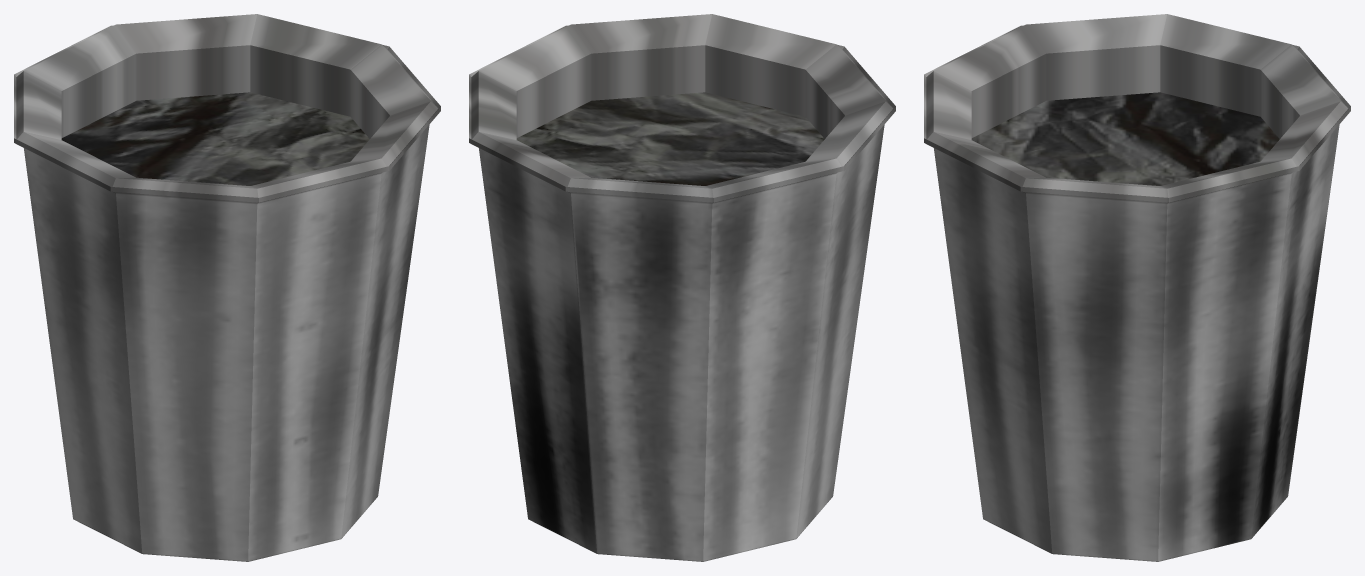
The model's file is lixo.fbx.
The picture shows the model from 3 angles, left to right: view 1: azimuth 30°, elevation 25°; view 2: azimuth 150°, elevation 25°; view 3: azimuth 270°, elevation 25°; orthographic projection.
Parts seen in each view (by area): view 1: lixo; view 2: lixo; view 3: lixo.
Part boxes in pixels (x1,y1,x2,y2): lixo: (14,14,440,561); lixo: (469,14,895,561); lixo: (924,14,1350,561).
Bounding box in the file's own units: 75.38 × 75.8 × 74.23.
1 material, 1 textured.
